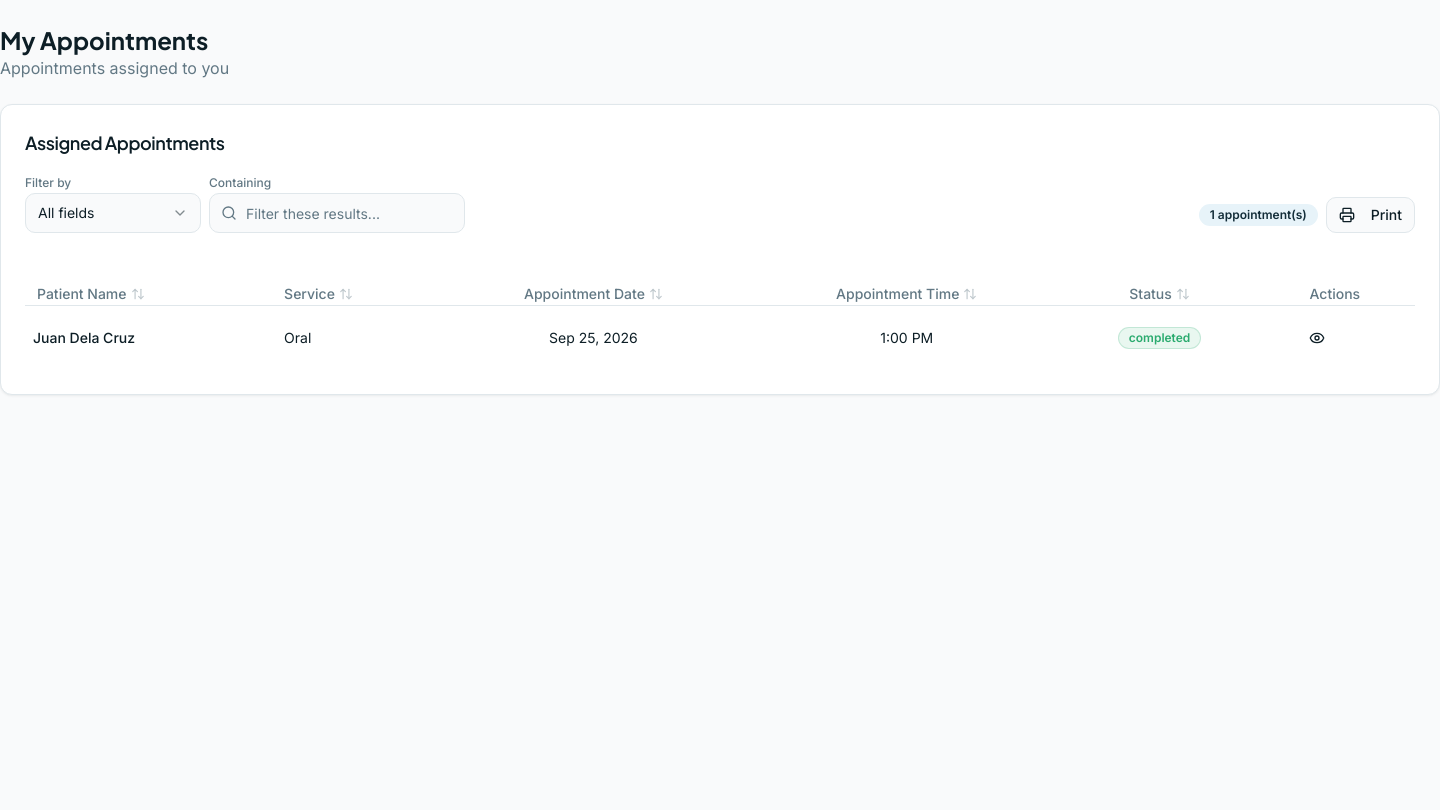
Test case: checking back on a finished visit › opens a completed appointment's dental record from its details
Click the button named "View".
click(1317, 338)  # box [1301,322,1333,354]
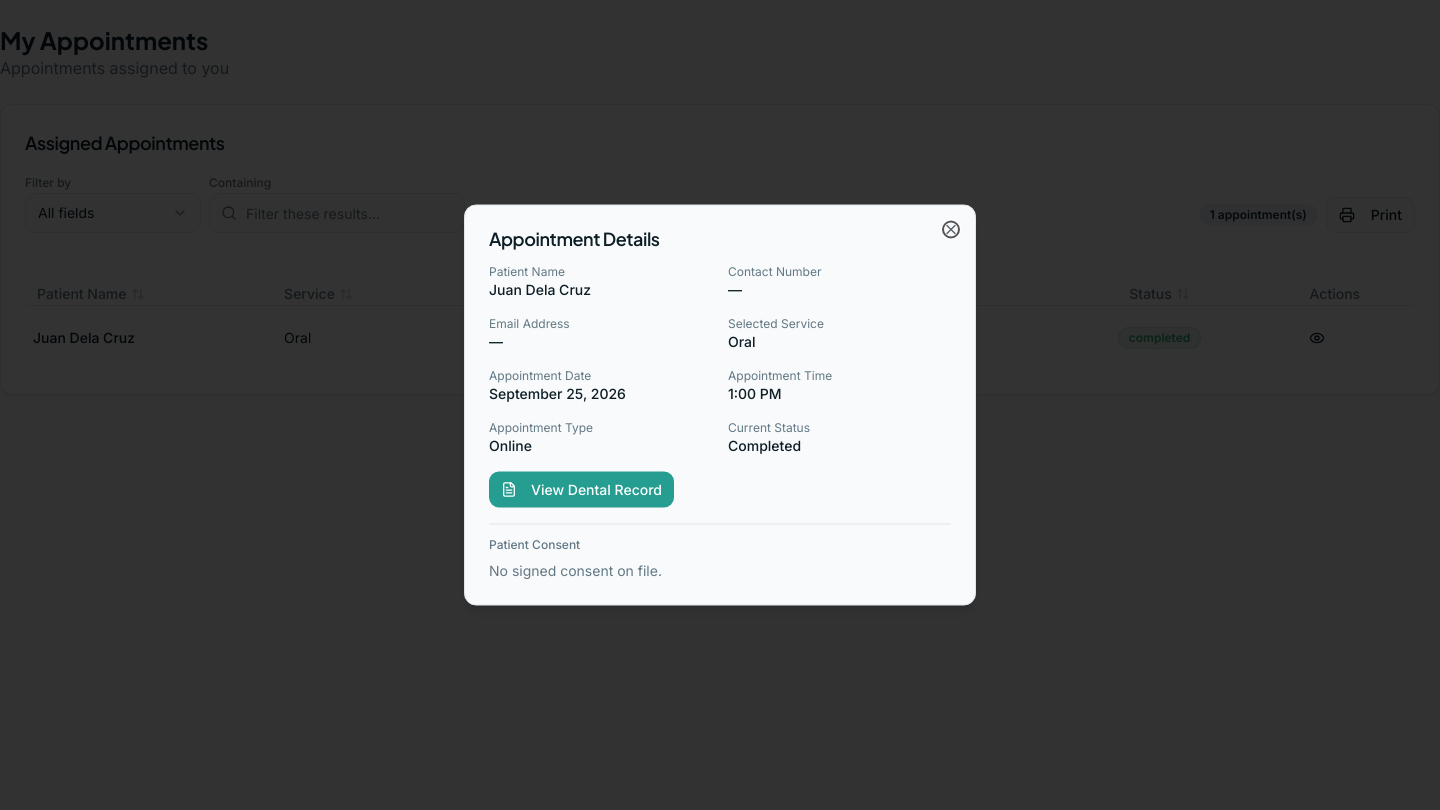
Click the link "View Dental Record".
click(582, 490)  # box [489,472,674,508]
(page scrolled)
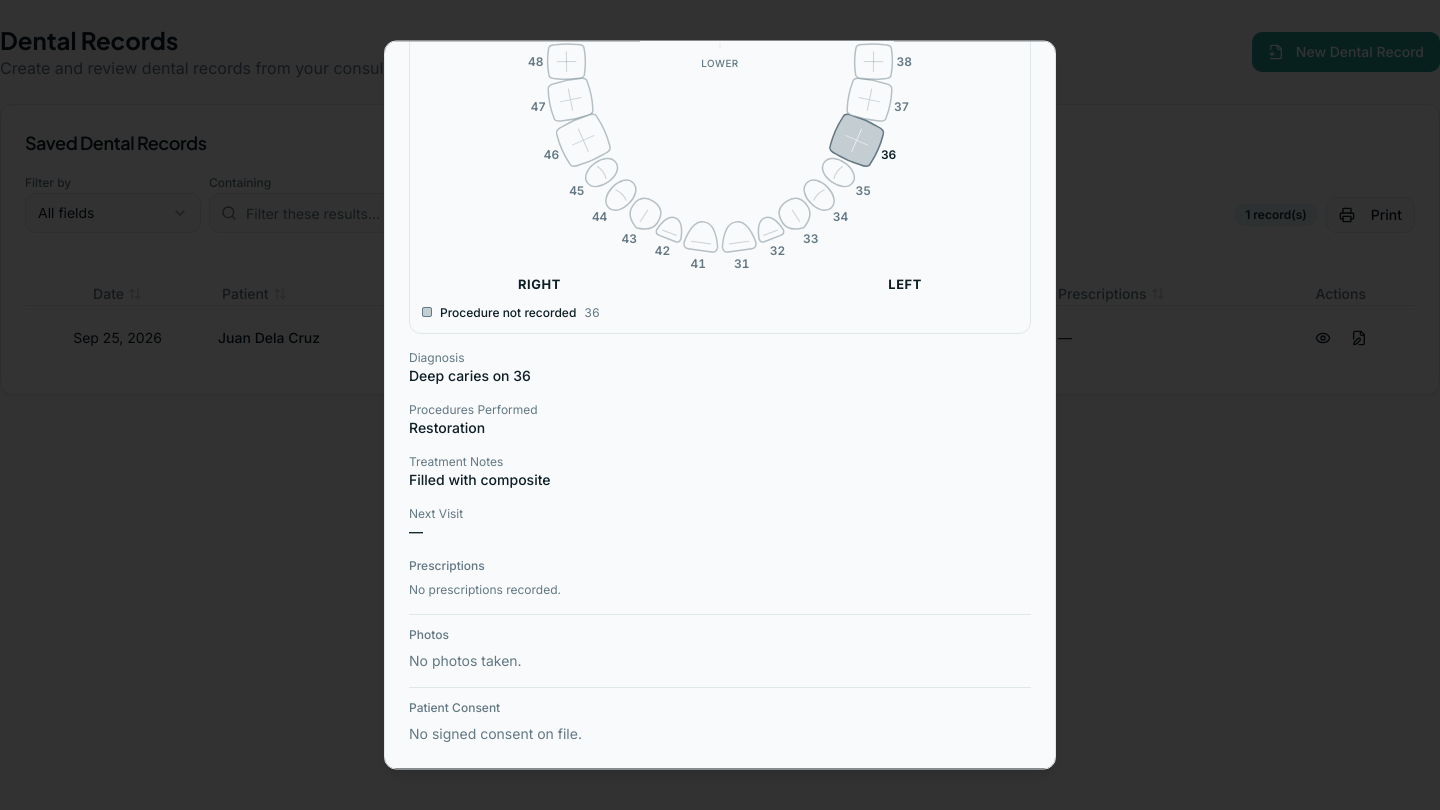
Expected: the text "Deep caries on 36" is shown, [409,367,531,384]
Expected: the text "Restoration" is shown, [409,419,485,436]
Expected: the text "Filled with composite" is shown, [409,471,550,488]
